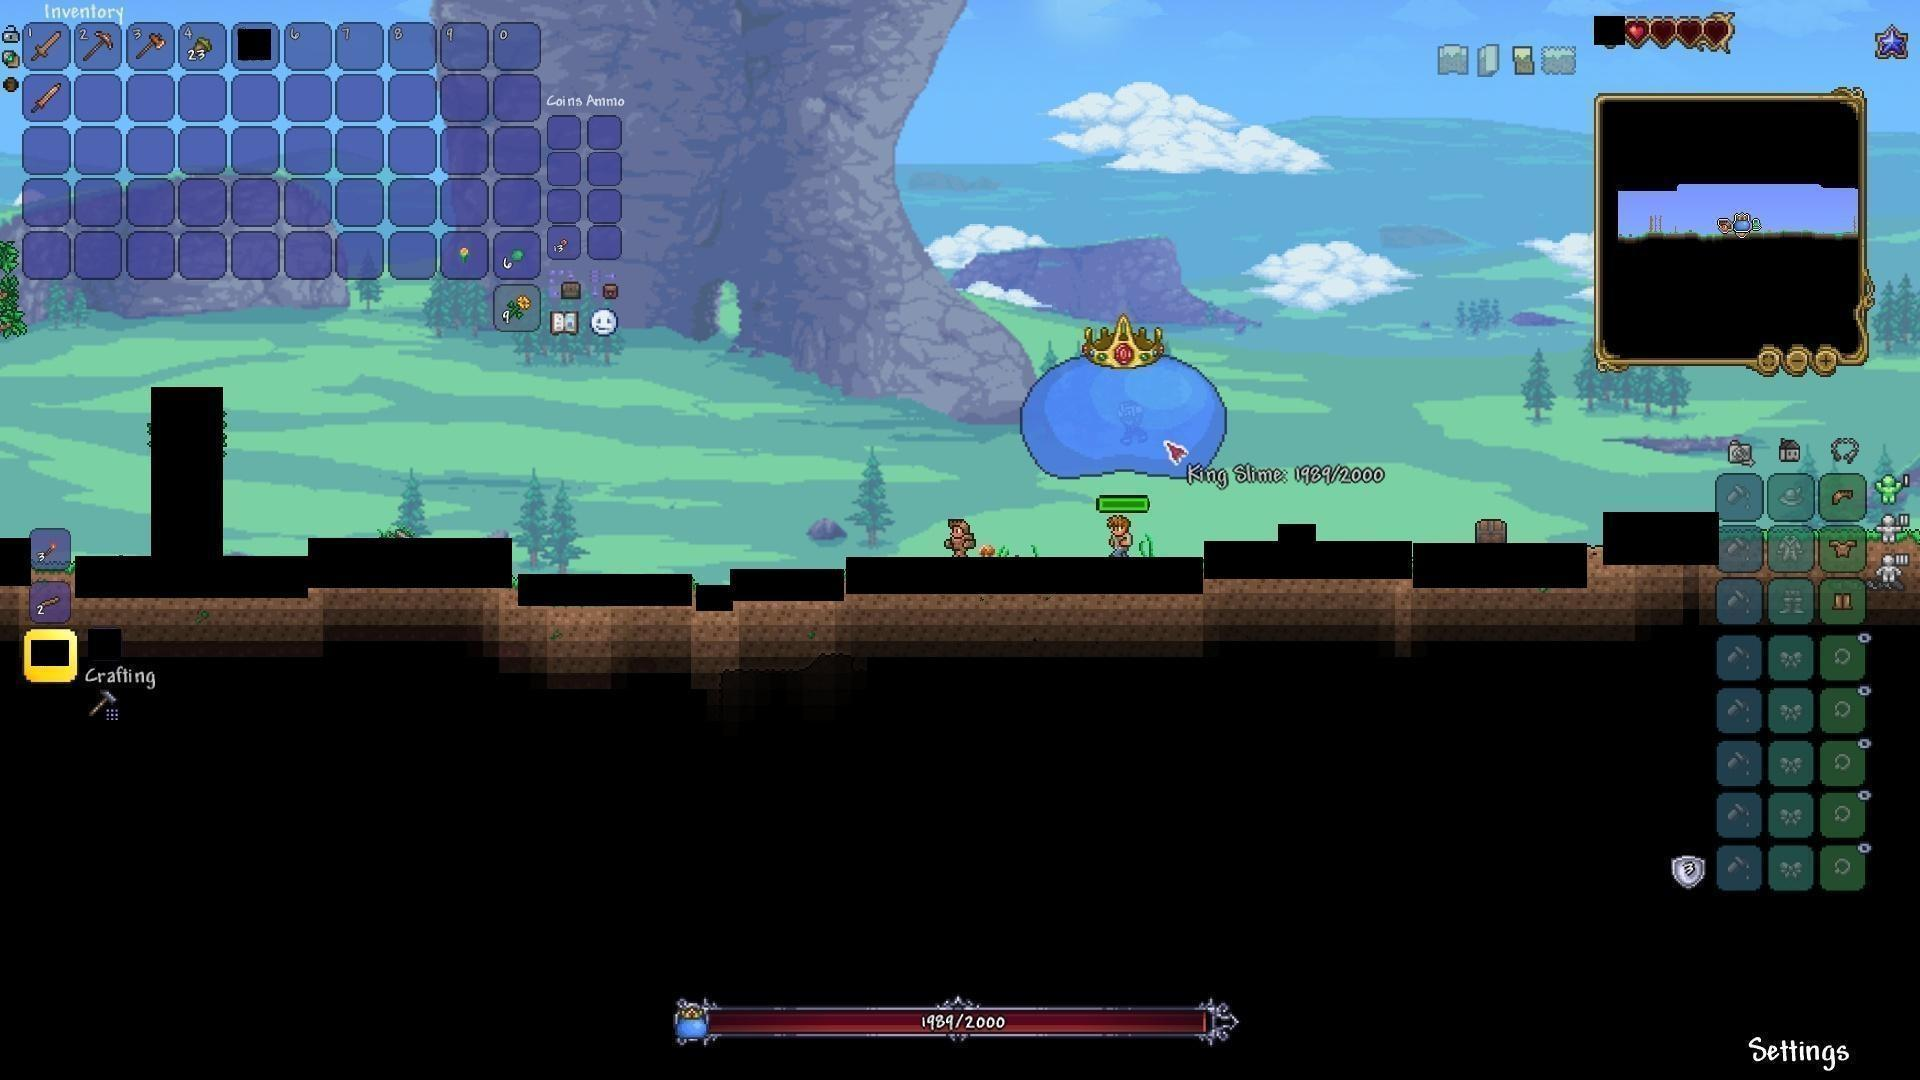breastplate: (1830, 538, 1859, 559)
helmet: (1828, 483, 1859, 510)
legs: (1832, 588, 1855, 615)
